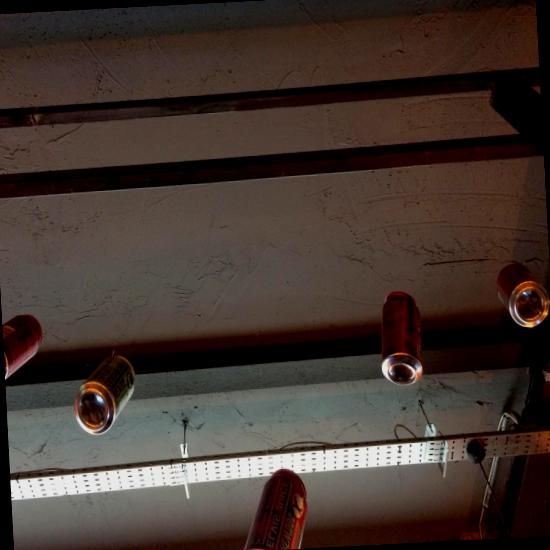Cigarette: (260, 449, 269, 454)
Drink carton: (380, 339, 400, 374)
Other plastic bottle: (301, 412, 314, 431)
Plastic straw: (383, 371, 385, 376)
